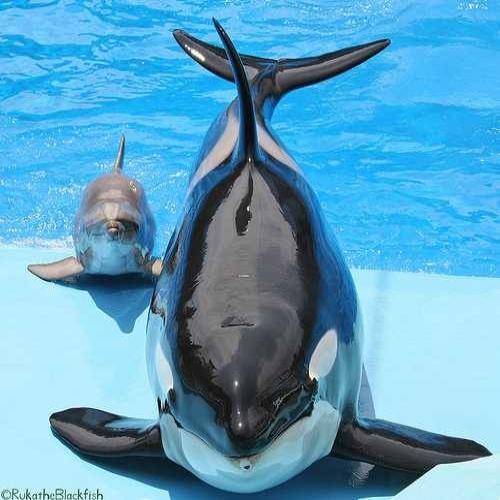killer_whale-endangered: (131, 80, 418, 496)
